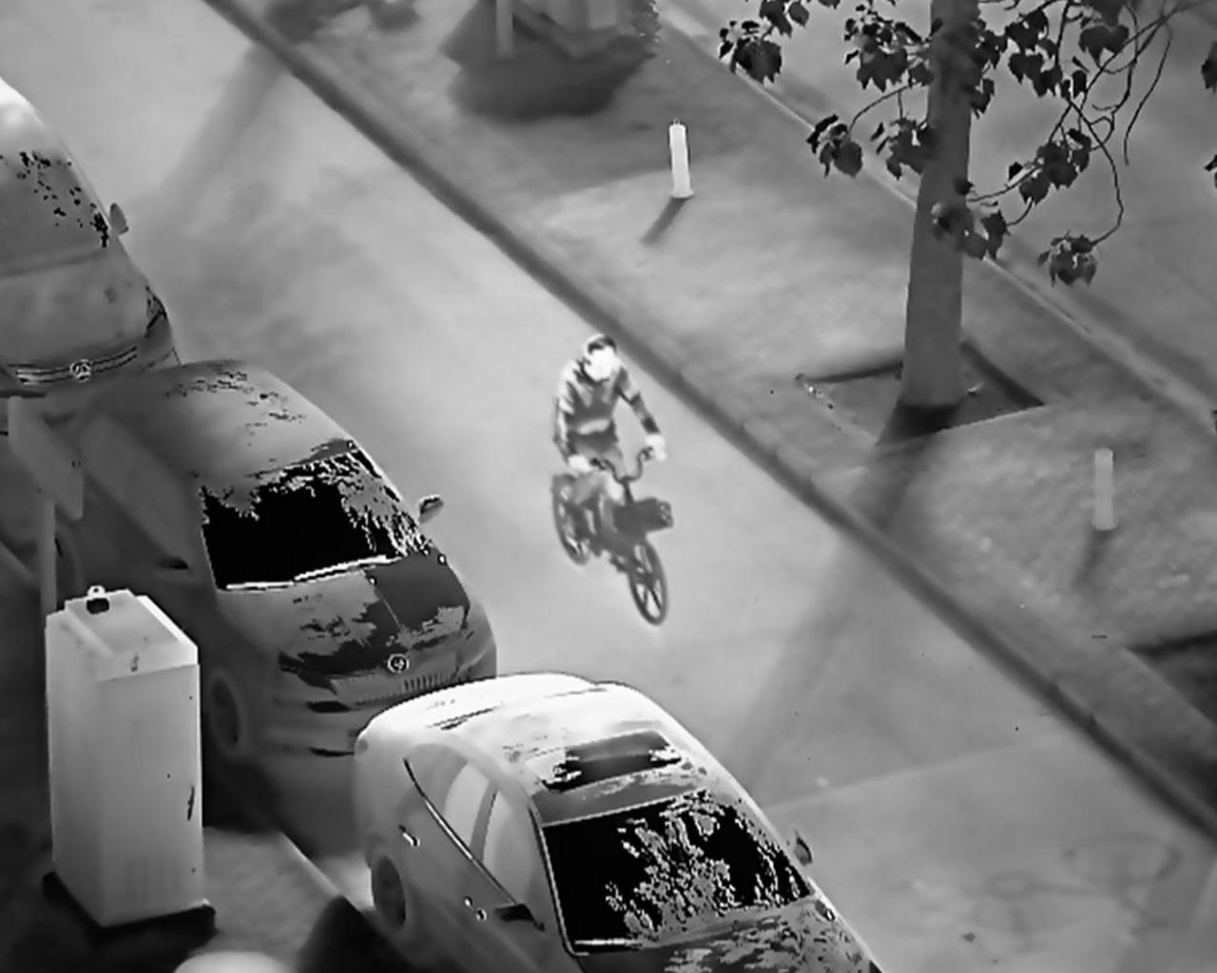person: (552, 333, 667, 565)
